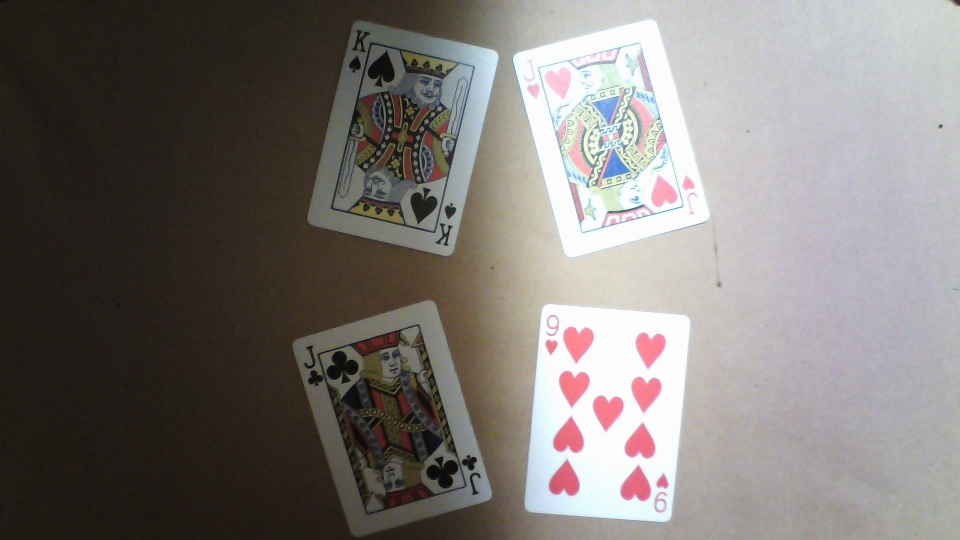jack: (288, 299, 494, 538), (513, 17, 712, 258)
king: (306, 18, 497, 260)
nine: (523, 302, 690, 523)
